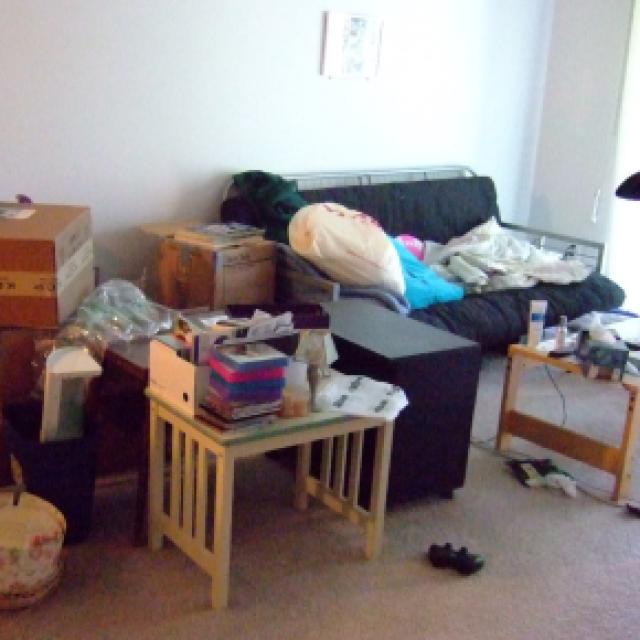mess: (280, 165, 612, 312)
